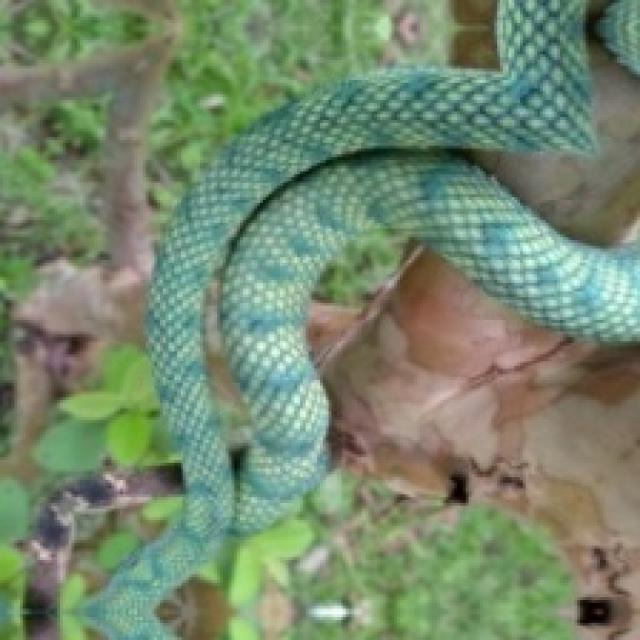north ph temple pitviper: (86, 0, 637, 637)
